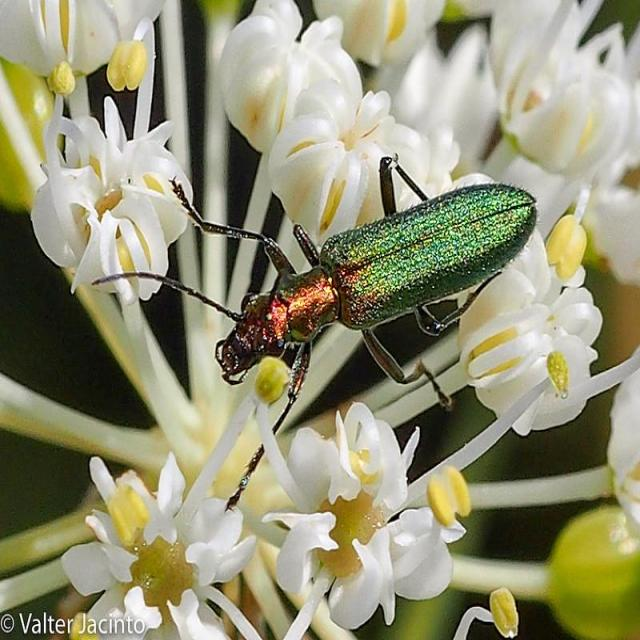BlisterBeetle-Adult-: (86, 153, 545, 417)
